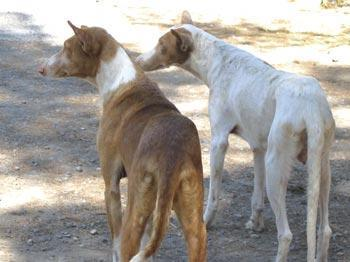Ibizan_hound: (134, 11, 335, 261), (38, 20, 207, 261)
